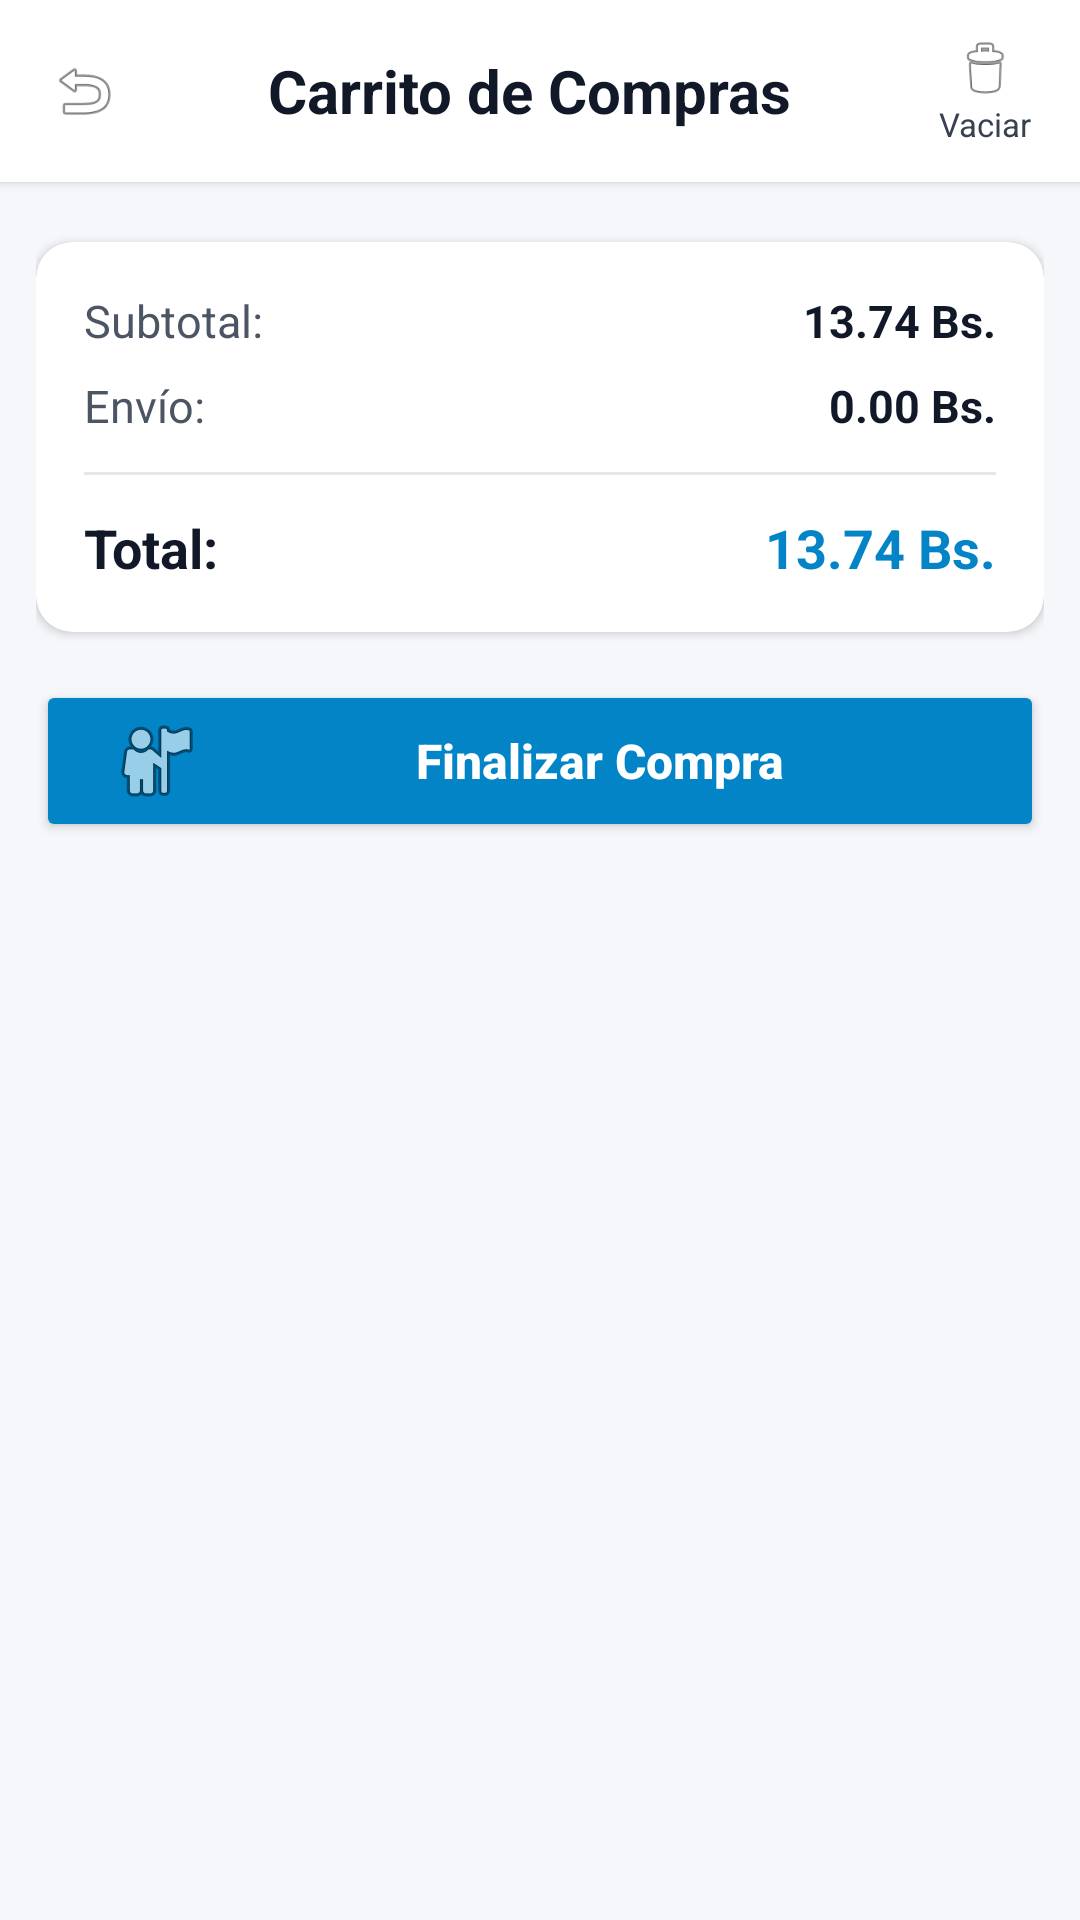

Where icons sit on this 1080 × 1920 app screen, as (x1, y1, x2, y2):
Volver: (59, 68, 111, 115)
